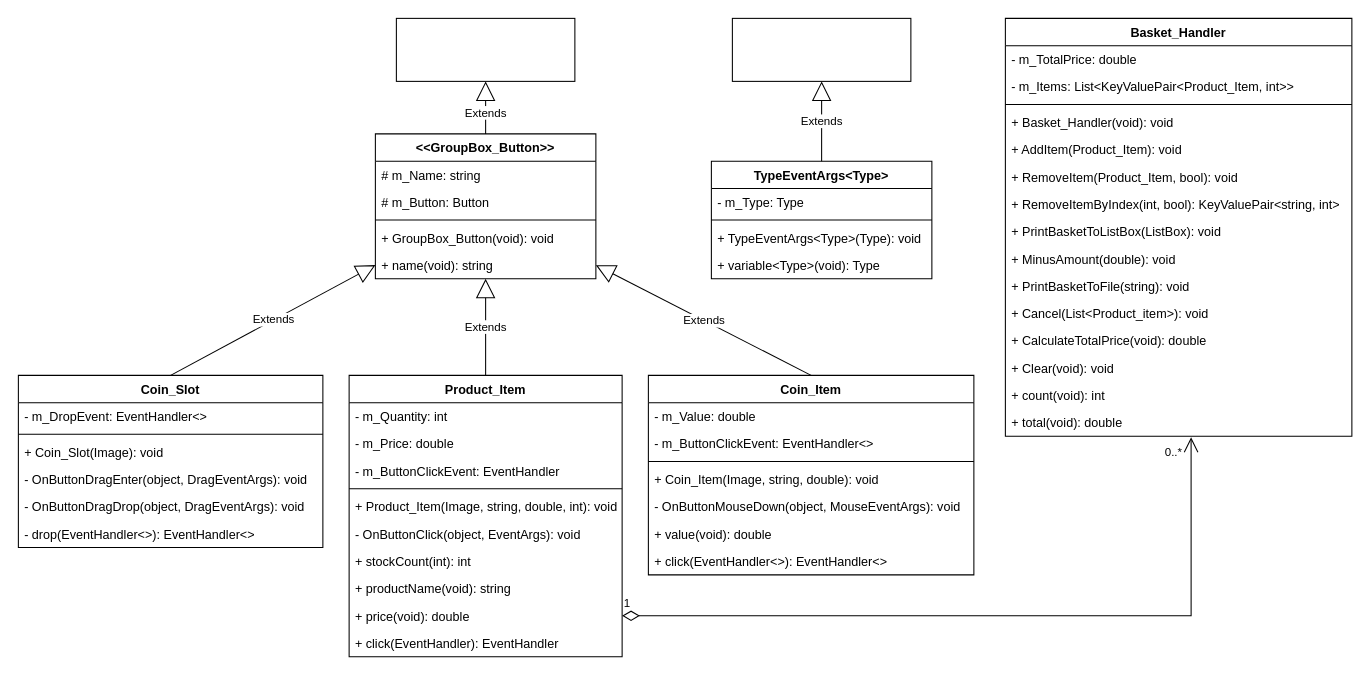
Some shapes in this 1370 by 678 pixel diagram are drawn without their labels. Each missing label, with the centre of its shape:
"EventArgs" goes at point 821,49.
"GroupBox" goes at point 485,49.
